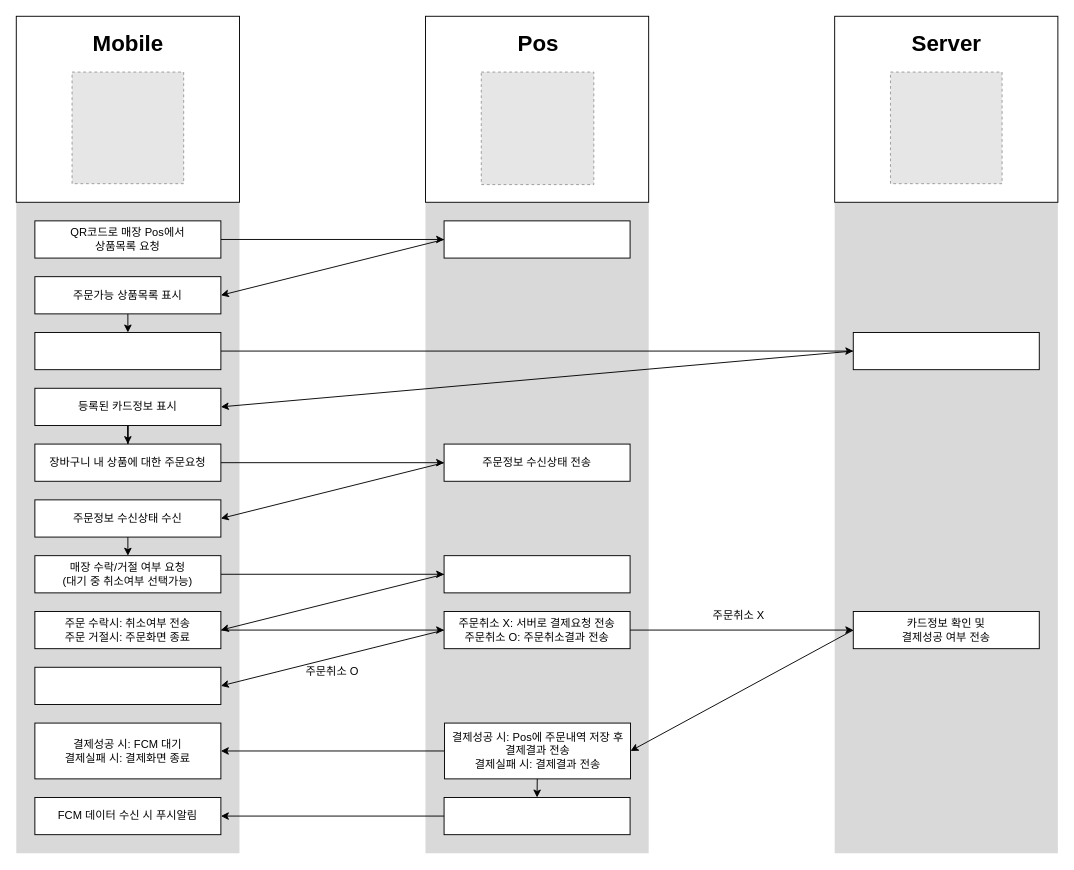
The diagram is 1074 pixels wide and 870 high, and some of its shapes have lost their labels. Grey dashed boxes stand in for pictures. Each missing label, with the centre of its shape:
상품 선택 후 등록된 카드정보 요청: point (127, 351)
상품 준비 완료 시 주문자의 FCM 토큰으로 데이터 전송: point (536, 816)
주문 수락/거절 여부 전송: point (536, 574)
주문 취소 결과 확인 후 종료: point (127, 685)
주문가능 상품목록 전송: point (536, 239)
해당 계정에 등록되어있는 카드정보 전송: point (945, 351)
